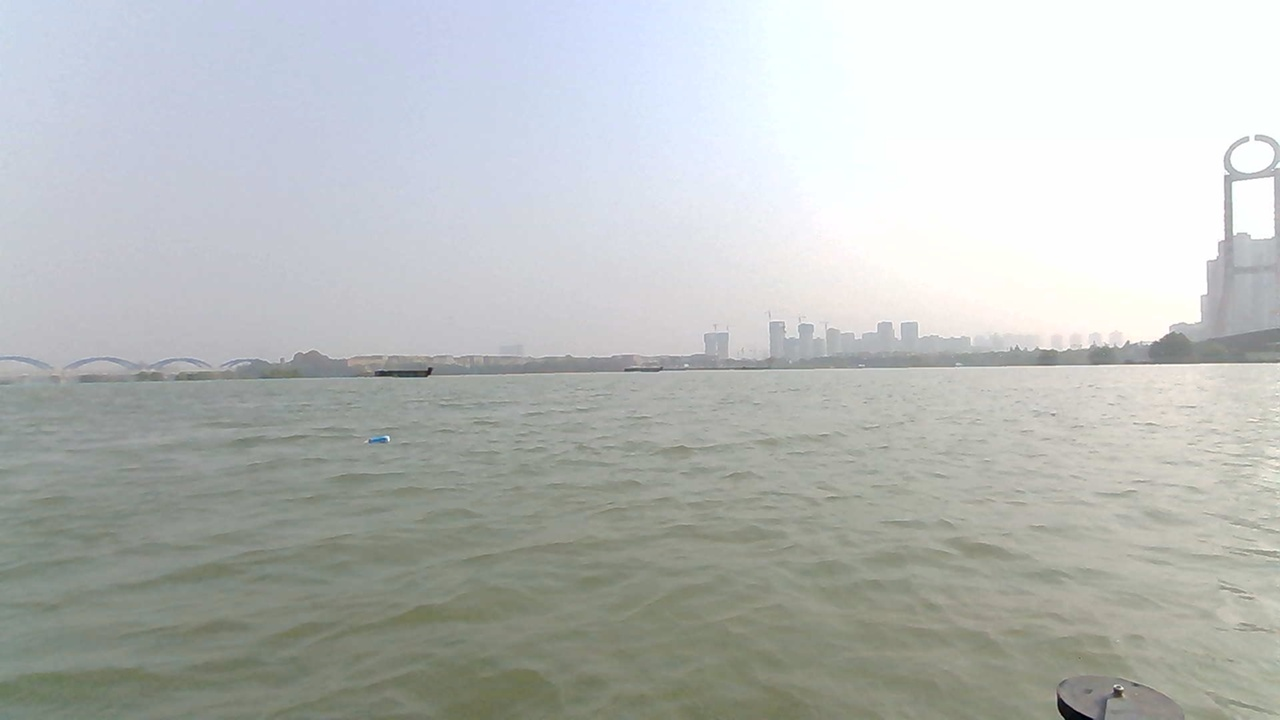bottle: (363, 433, 398, 450)
